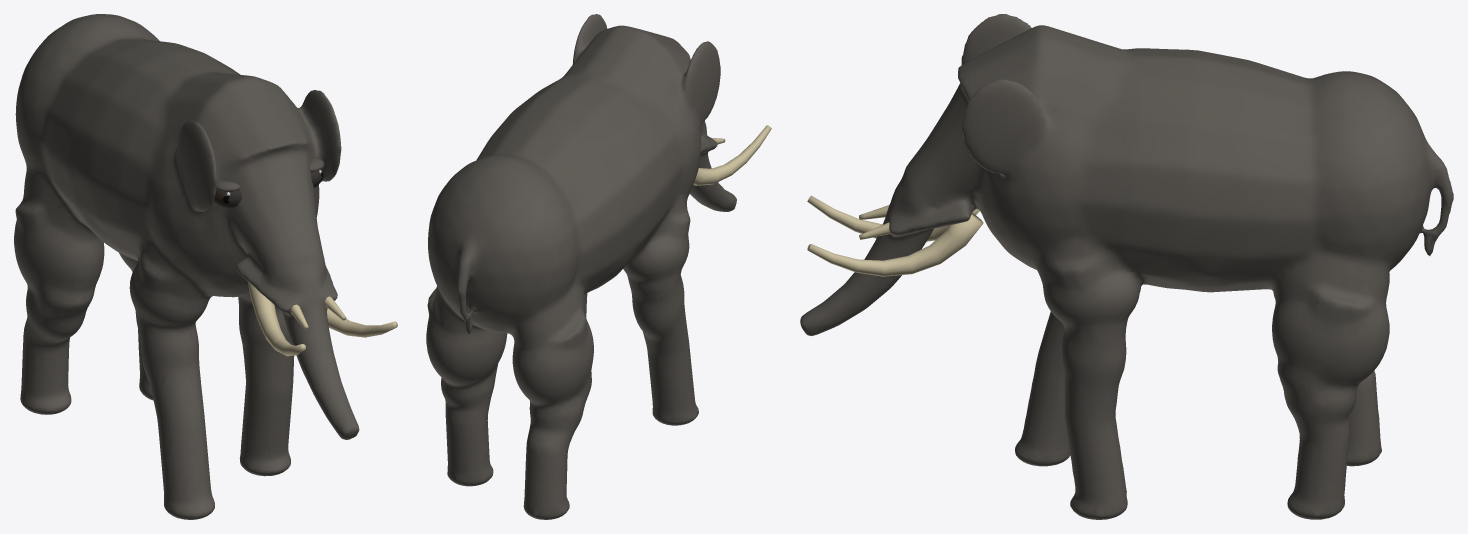
The model's file is GomphotheriumAngustidens.fbx.
The picture shows the model from 3 angles, left to right: view 1: azimuth 30°, elevation 25°; view 2: azimuth 150°, elevation 25°; view 3: azimuth 270°, elevation 25°; orthographic projection. The views are drawn at different scales.
Parts seen in each view (by area): view 1: GomphotheriumAngustidens; view 2: GomphotheriumAngustidens; view 3: GomphotheriumAngustidens.
Part boxes in pixels (x1,y1,x2,y2): GomphotheriumAngustidens: [14, 14, 397, 519]; GomphotheriumAngustidens: [426, 14, 771, 519]; GomphotheriumAngustidens: [800, 14, 1453, 519].
Size of the model in its own units: 0.6863 by 1.63 by 2.11.
